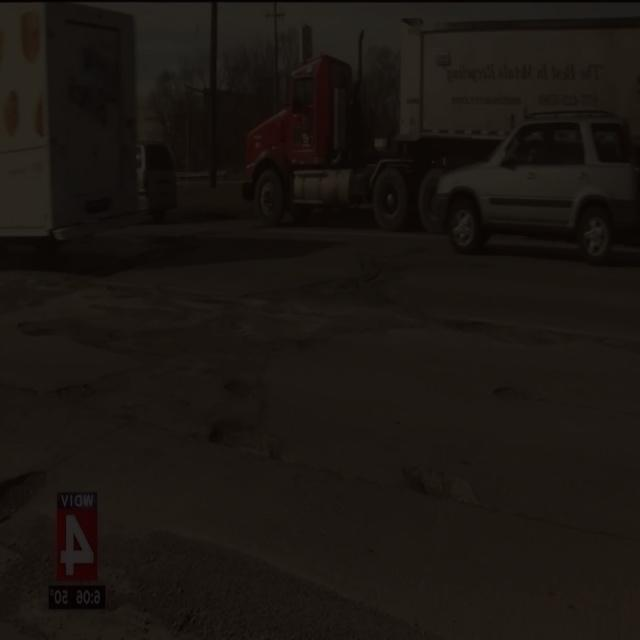Pothole: (108, 522, 420, 640), (23, 308, 190, 355), (434, 315, 591, 356), (398, 462, 497, 511), (278, 277, 407, 312), (204, 412, 291, 463), (0, 461, 52, 520), (487, 379, 542, 408), (43, 379, 109, 403)
